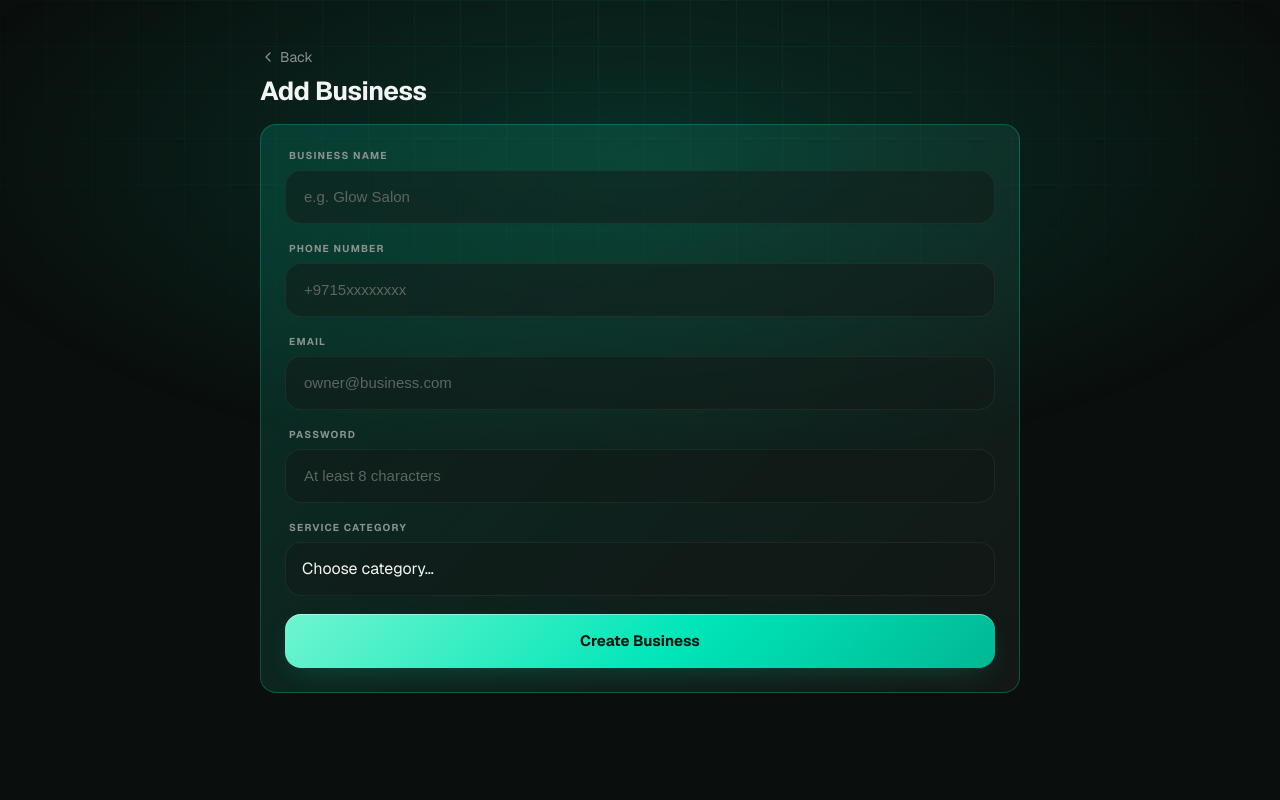
Scenario: MasterShopCreate › blocks submit without an email
Type "Acme Salon" into the field labelled "Business Name" at (640, 196), box x1=302 y1=170 x2=978 y2=222
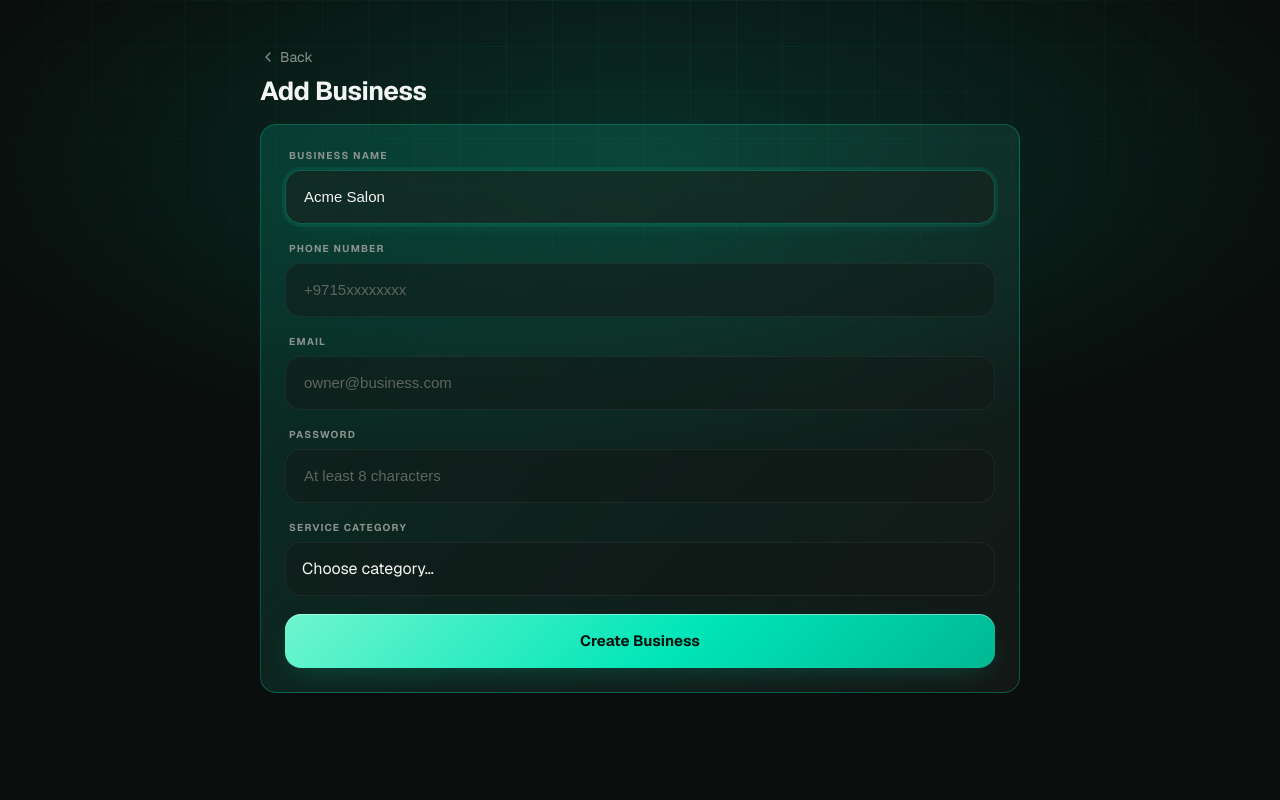
Click the button "Create Business" at (640, 640), box x1=285 y1=614 x2=995 y2=668
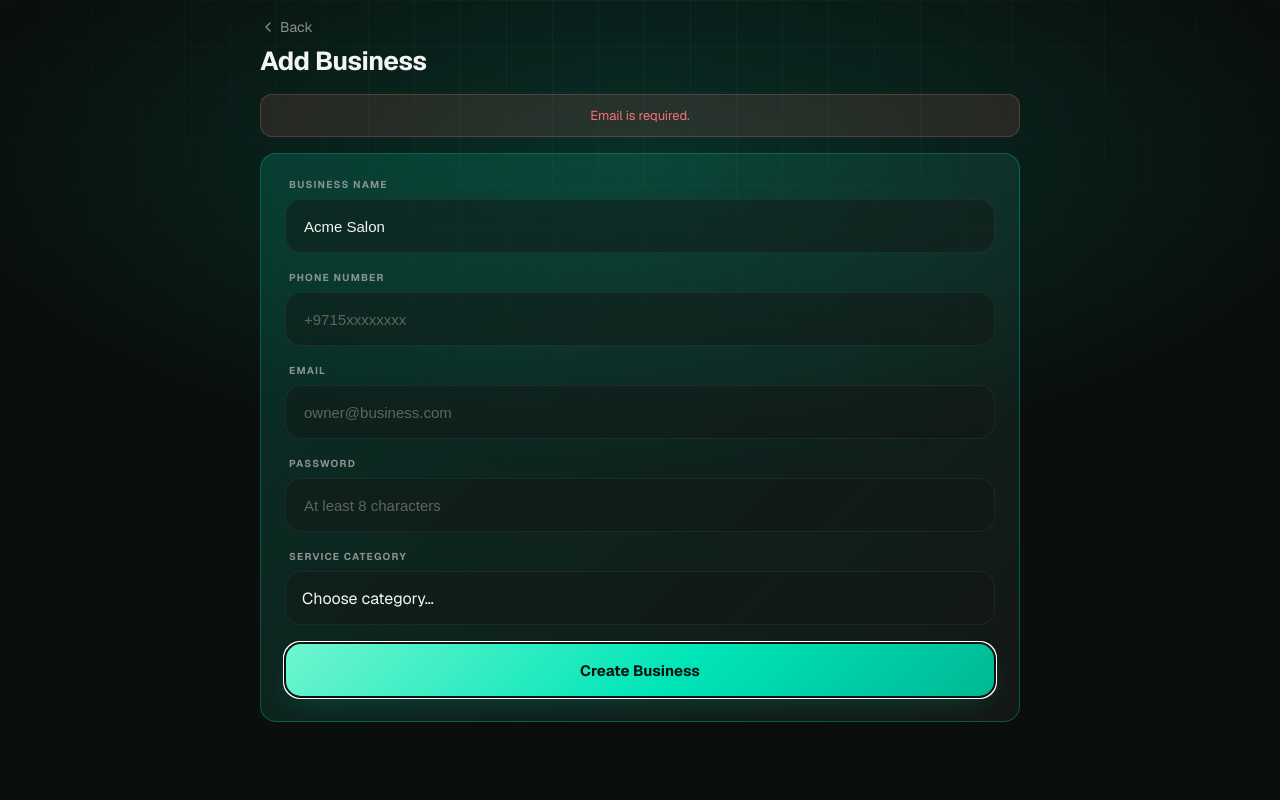
Check: the text "Email is required." is shown, box x1=260 y1=94 x2=1020 y2=137
